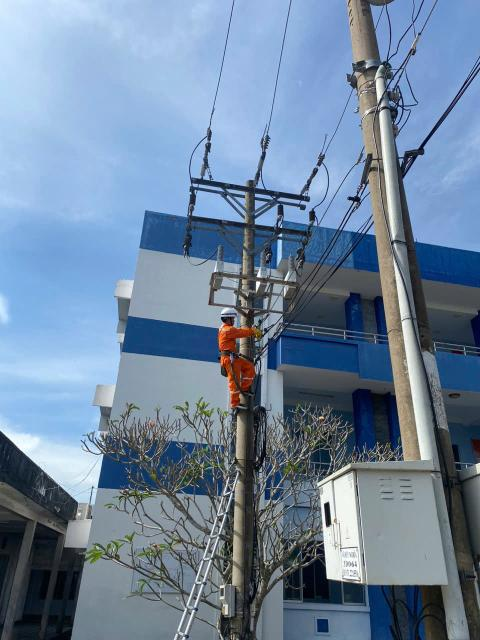gloves: (248, 322, 263, 345)
harness: (212, 344, 244, 366)
helmet: (212, 298, 242, 319)
shoes: (224, 397, 252, 414), (239, 385, 265, 402)
